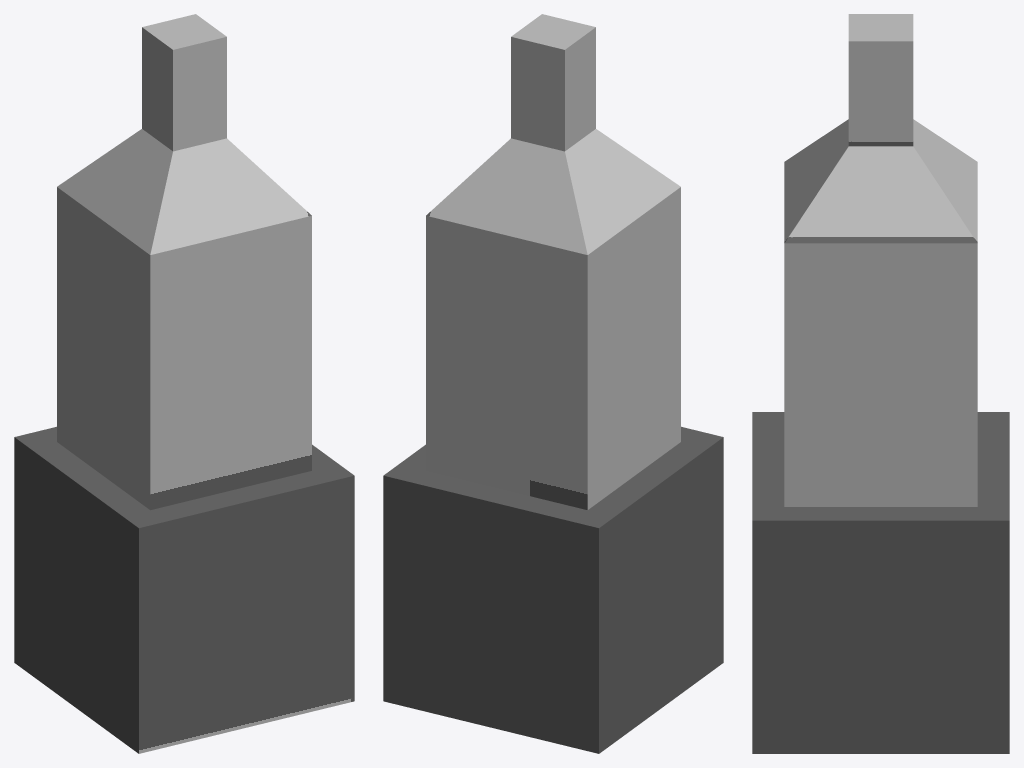
Rendered from telesupport.obj.
3 renders of one model, left to right at view 1: azimuth 30°, elevation 25°; view 2: azimuth 150°, elevation 25°; view 3: azimuth 270°, elevation 25°, orthographic. The views are drawn at different scales.
Visible parts, largest first — view 1: main; view 2: main; view 3: main.
Boxes of the visible parts, x1=… form: main: x1=14, y1=14, x2=354, y2=753; main: x1=383, y1=14, x2=723, y2=753; main: x1=752, y1=14, x2=1009, y2=753.
Bounding box in the file's own units: 1 × 2.88 × 1.
